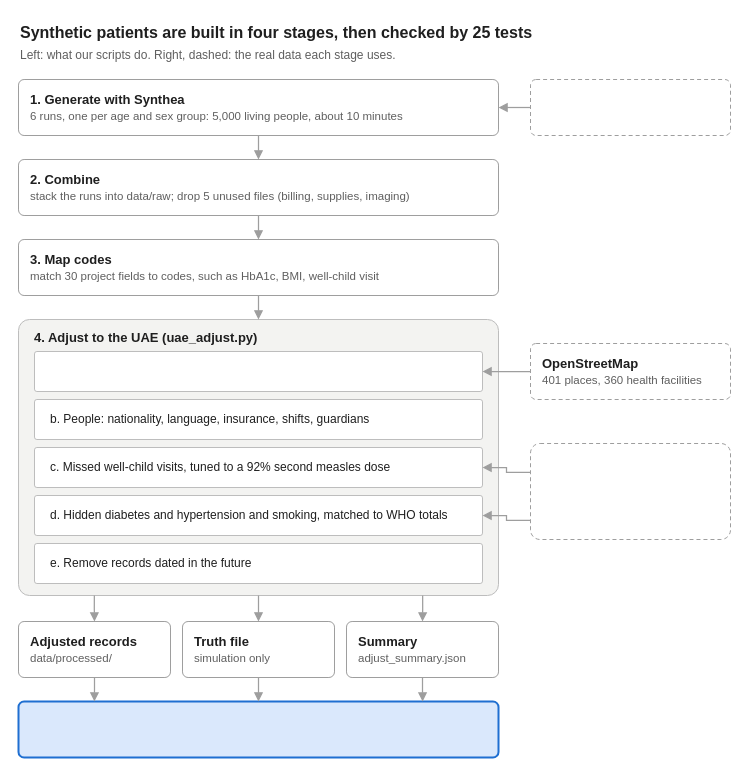
Some shapes in this 755 by 775 pixel diagram are drawn without their labels. Each missing label, with the centre of its shape:
"a. Homes in 401 real places, distance to the nearest of 360 health facilities" goes at point 258,371.
"Checked 25 data tests and DATA_REPORT.md: no problems found" goes at point 258,729.
"WHO measles second dose, diabetes, hypertension, smoking targets" goes at point 630,491.
"World Bank UAE age and sex, 2024" goes at point 630,107.
